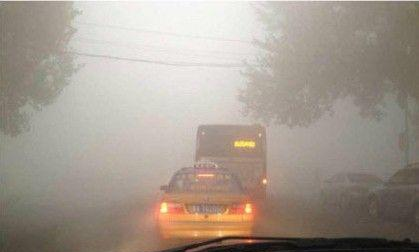bus: (193, 121, 268, 209)
car: (157, 162, 258, 243), (366, 160, 418, 219), (316, 167, 386, 207)
